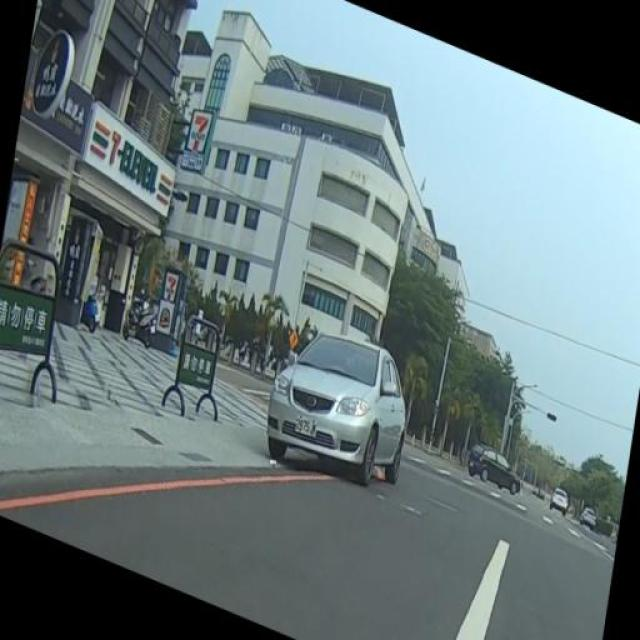Legalparking: (241, 325, 440, 492)
